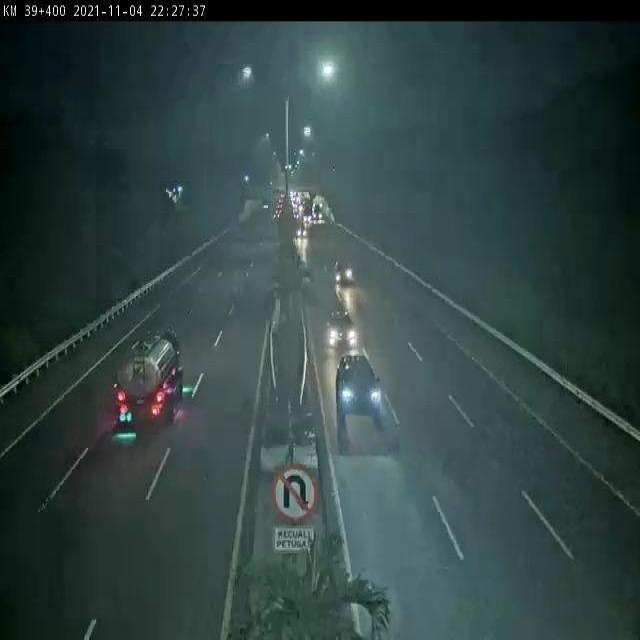car: (334, 354, 378, 410), (326, 312, 359, 352), (333, 256, 352, 283)
truck-l-: (112, 332, 182, 428)
